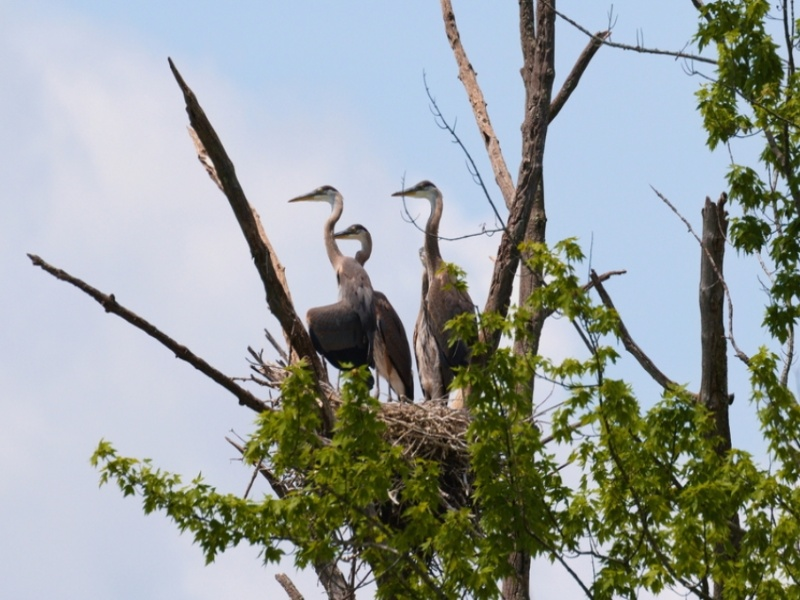heron: (288, 177, 414, 407), (392, 170, 482, 411), (330, 218, 371, 268)
